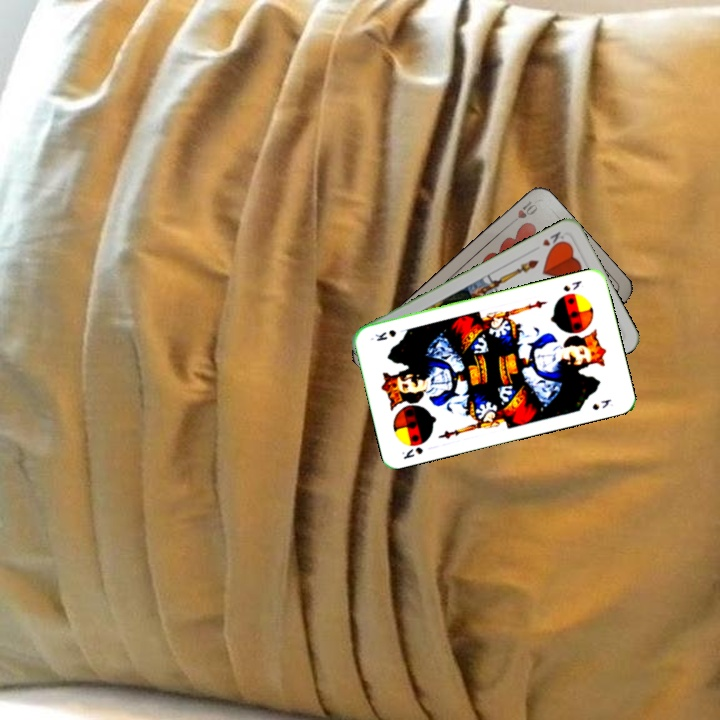H10: (505, 197, 540, 228)
HK: (538, 227, 569, 252)
SK: (398, 443, 425, 462), (559, 276, 584, 294)
